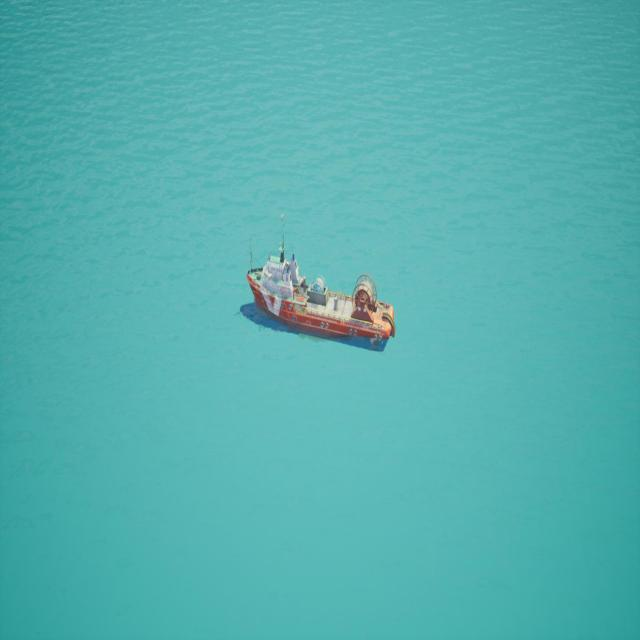tug boat: (241, 214, 398, 355)
